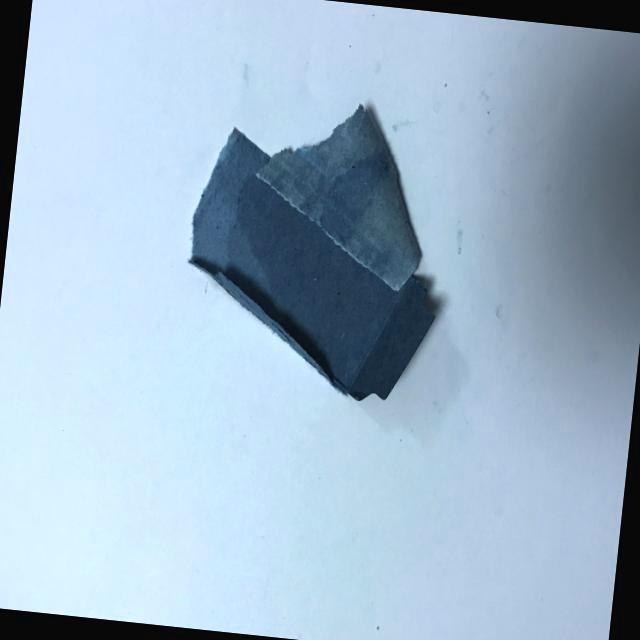paper: (172, 80, 464, 407)
